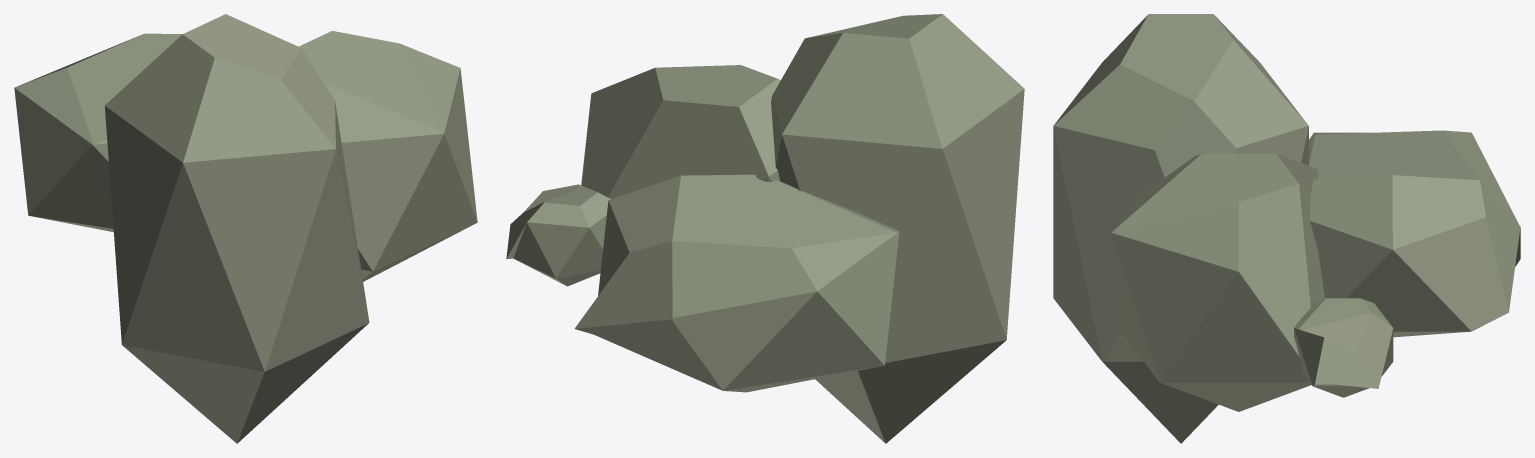
The model's file is rock1.fbx.
The picture shows the model from 3 angles, left to right: view 1: azimuth 30°, elevation 25°; view 2: azimuth 150°, elevation 25°; view 3: azimuth 270°, elevation 25°; orthographic projection. The views are drawn at different scales.
Parts seen in each view (by area): view 1: Icosphere; view 2: Icosphere; view 3: Icosphere.
Part boxes in pixels (x1,y1,x2,y2): Icosphere: [14, 14, 477, 443]; Icosphere: [506, 14, 1024, 443]; Icosphere: [1053, 14, 1520, 443].
Size of the model in its own units: 308 by 302 by 311.
